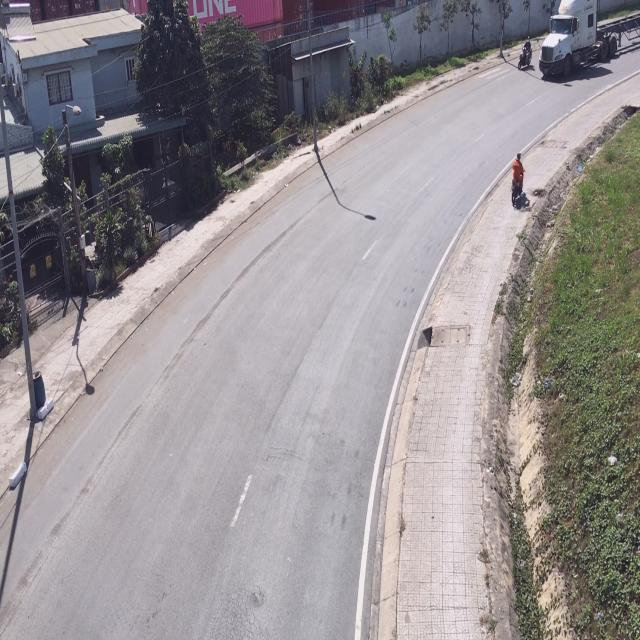motorbike: (510, 148, 524, 208), (516, 36, 532, 71)
truck: (539, 1, 640, 85)
